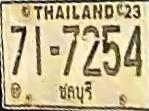1: (35, 26, 43, 74)
2: (81, 25, 101, 75)
4: (123, 24, 142, 76)
5: (102, 24, 120, 75)
7: (62, 24, 79, 74), (10, 25, 26, 74)
CBI: (57, 79, 98, 105)
